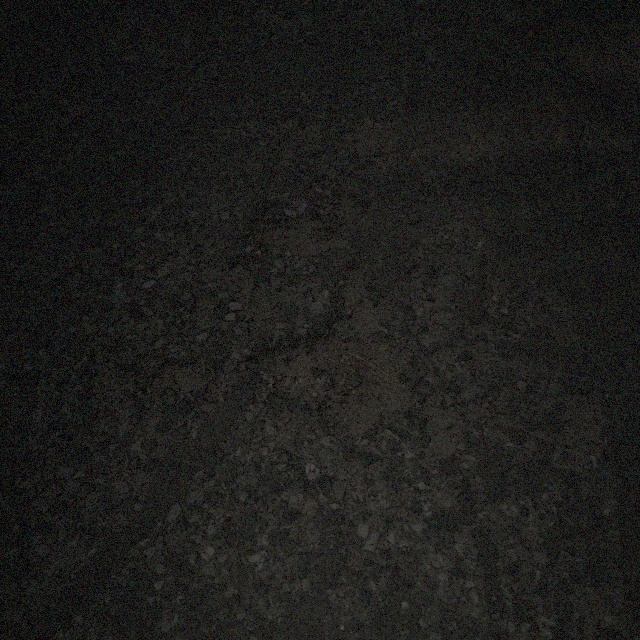pothole: (240, 297, 414, 438), (241, 210, 348, 263), (144, 356, 208, 396)
